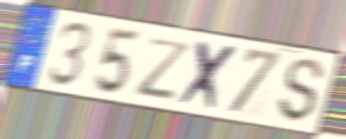3: (47, 20, 93, 89)
5: (92, 25, 144, 96)
7: (226, 46, 284, 116)
S: (276, 57, 326, 126)
X: (175, 38, 242, 115)
Z: (135, 35, 195, 102)
